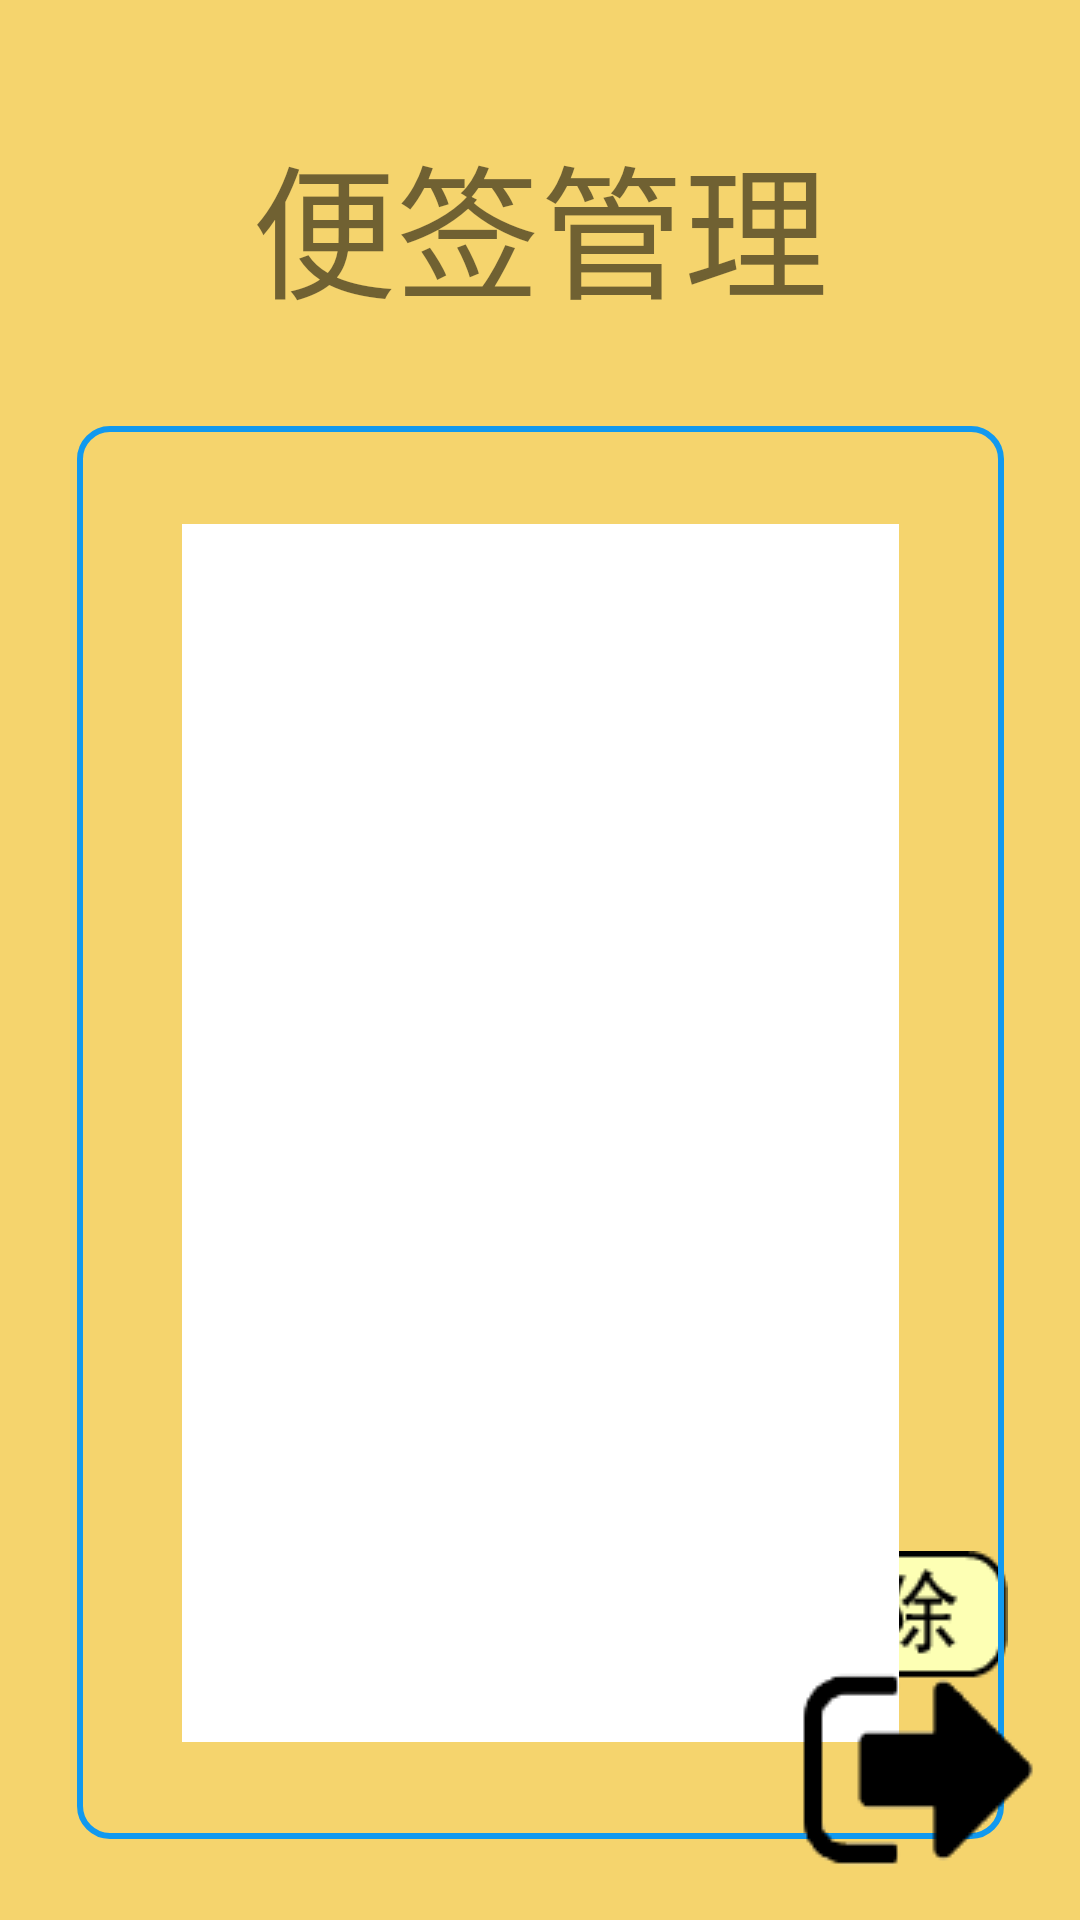

Where to tap for icons on this 1080px x 1920px app screen, as [x,y]:
quit: [918,1770]
